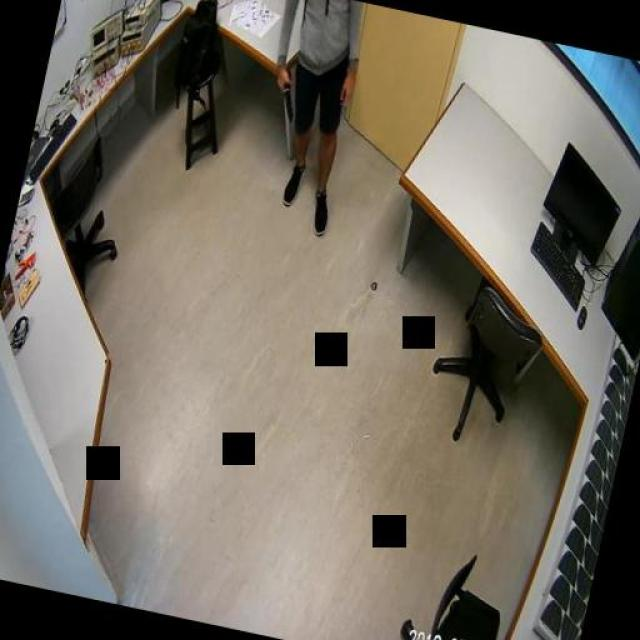gun: (272, 66, 302, 120)
